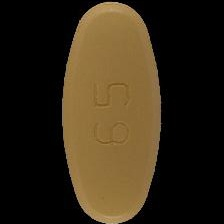63629-4805: (0, 0, 224, 224)
